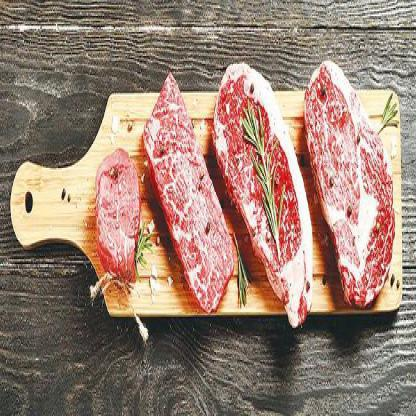beef: (224, 64, 314, 317), (146, 72, 234, 325), (310, 62, 397, 317), (100, 144, 143, 266)
